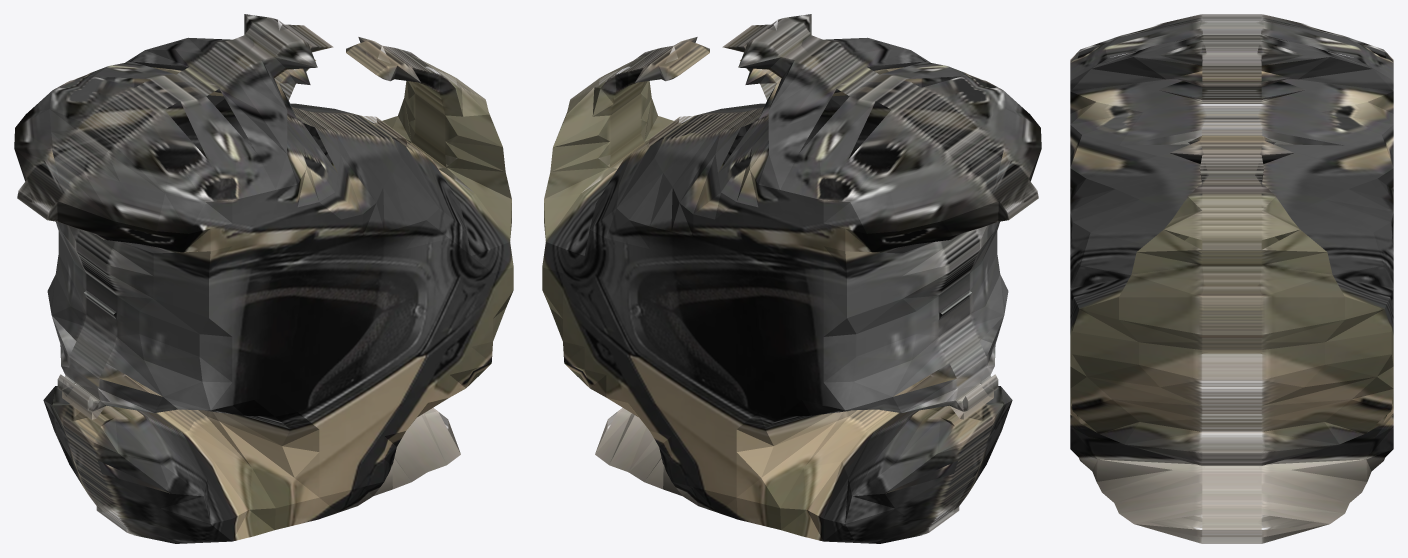
Rendered from klim-apex-adventure-helmet-061.glb.
3 views of the same model, side by side, from view 1: azimuth 30°, elevation 25°; view 2: azimuth 150°, elevation 25°; view 3: azimuth 270°, elevation 25° (orthographic).
Parts seen in each view (by area): view 1: world; view 2: world; view 3: world.
Part boxes in pixels (bbox=[...]): world: bbox=[14, 14, 513, 543]; world: bbox=[542, 14, 1041, 543]; world: bbox=[1070, 14, 1393, 543].
Size of the model in its own units: 1 by 0.9902 by 0.64.
1 material, 1 textured.
